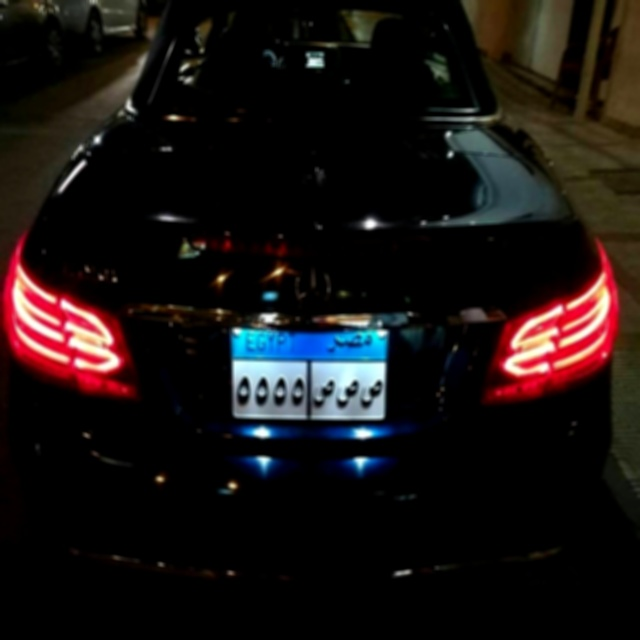License Plate: (225, 317, 393, 429)
